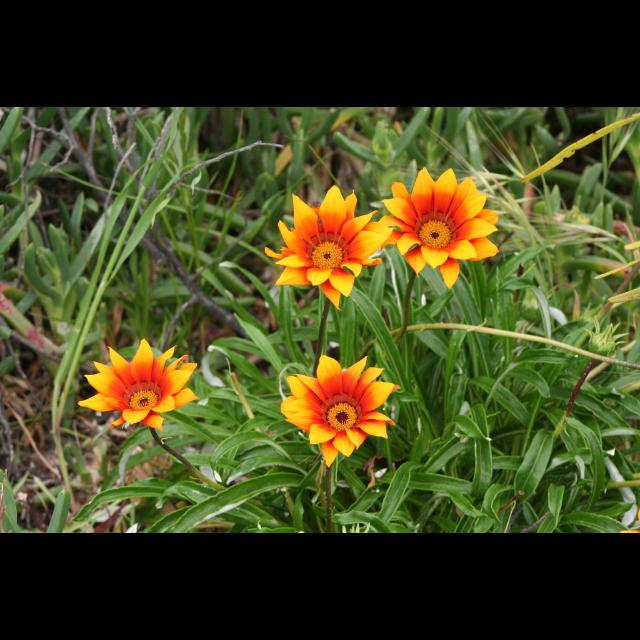Flower: (378, 167, 497, 285), (282, 356, 396, 464), (78, 339, 198, 435), (273, 196, 375, 300)
